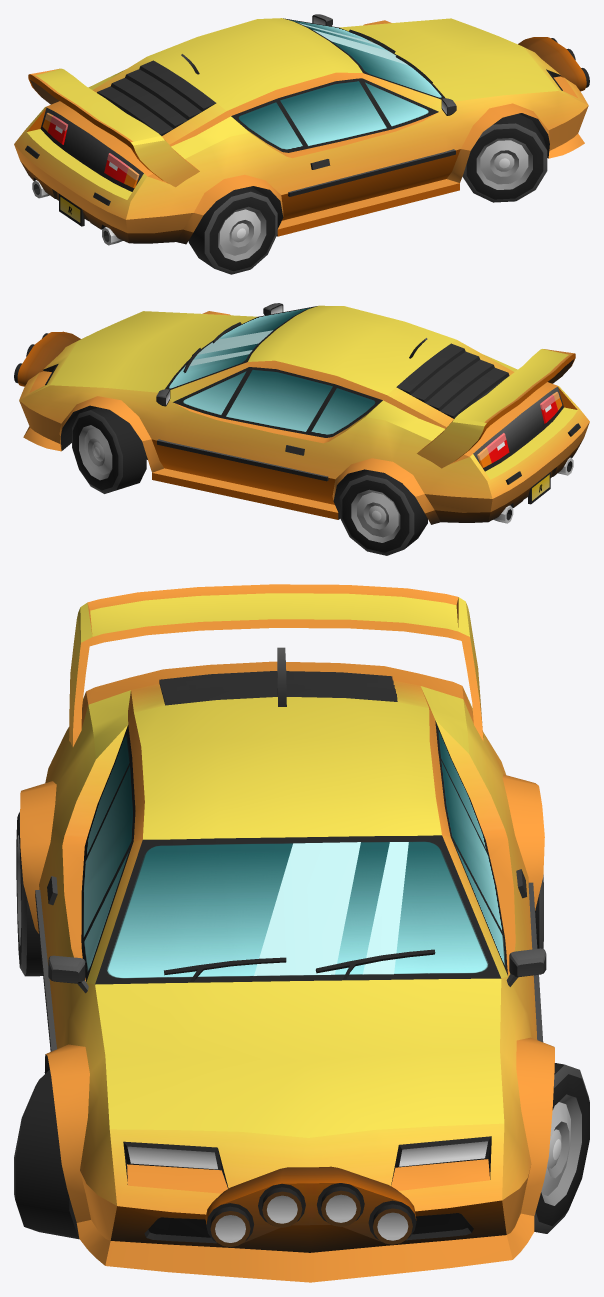
File: Car_047.glb
3 renders of one model, top to bottom at view 1: azimuth 30°, elevation 25°; view 2: azimuth 150°, elevation 25°; view 3: azimuth 270°, elevation 25°, orthographic. The views are drawn at different scales.
Parts seen in each view (by area): view 1: Car_047, wheel_0_Car_047_Wheel_1R, wheel_3_Car_047_Wheel_3R; view 2: Car_047, wheel_2_Car_047_Wheel_3L, wheel_1_Car_047_Wheel_2L; view 3: Car_047, wheel_0_Car_047_Wheel_1R, wheel_1_Car_047_Wheel_2L, wheel_3_Car_047_Wheel_3R.
Part boxes in pixels (box(x1,y1,x2,y2)): Car_047: box(14, 14, 589, 245); wheel_0_Car_047_Wheel_1R: box(462, 113, 547, 202); wheel_3_Car_047_Wheel_3R: box(188, 186, 277, 274); Car_047: box(14, 303, 589, 524); wheel_2_Car_047_Wheel_3L: box(339, 469, 427, 555); wheel_1_Car_047_Wheel_2L: box(72, 407, 146, 493); Car_047: box(20, 584, 554, 1282); wheel_0_Car_047_Wheel_1R: box(14, 1069, 79, 1239); wheel_1_Car_047_Wheel_2L: box(534, 1063, 589, 1233); wheel_3_Car_047_Wheel_3R: box(16, 812, 42, 976).
Size of the model in its own units: 4.98 by 1.56 by 2.48.
Materials: 1 (1 with a texture image).
